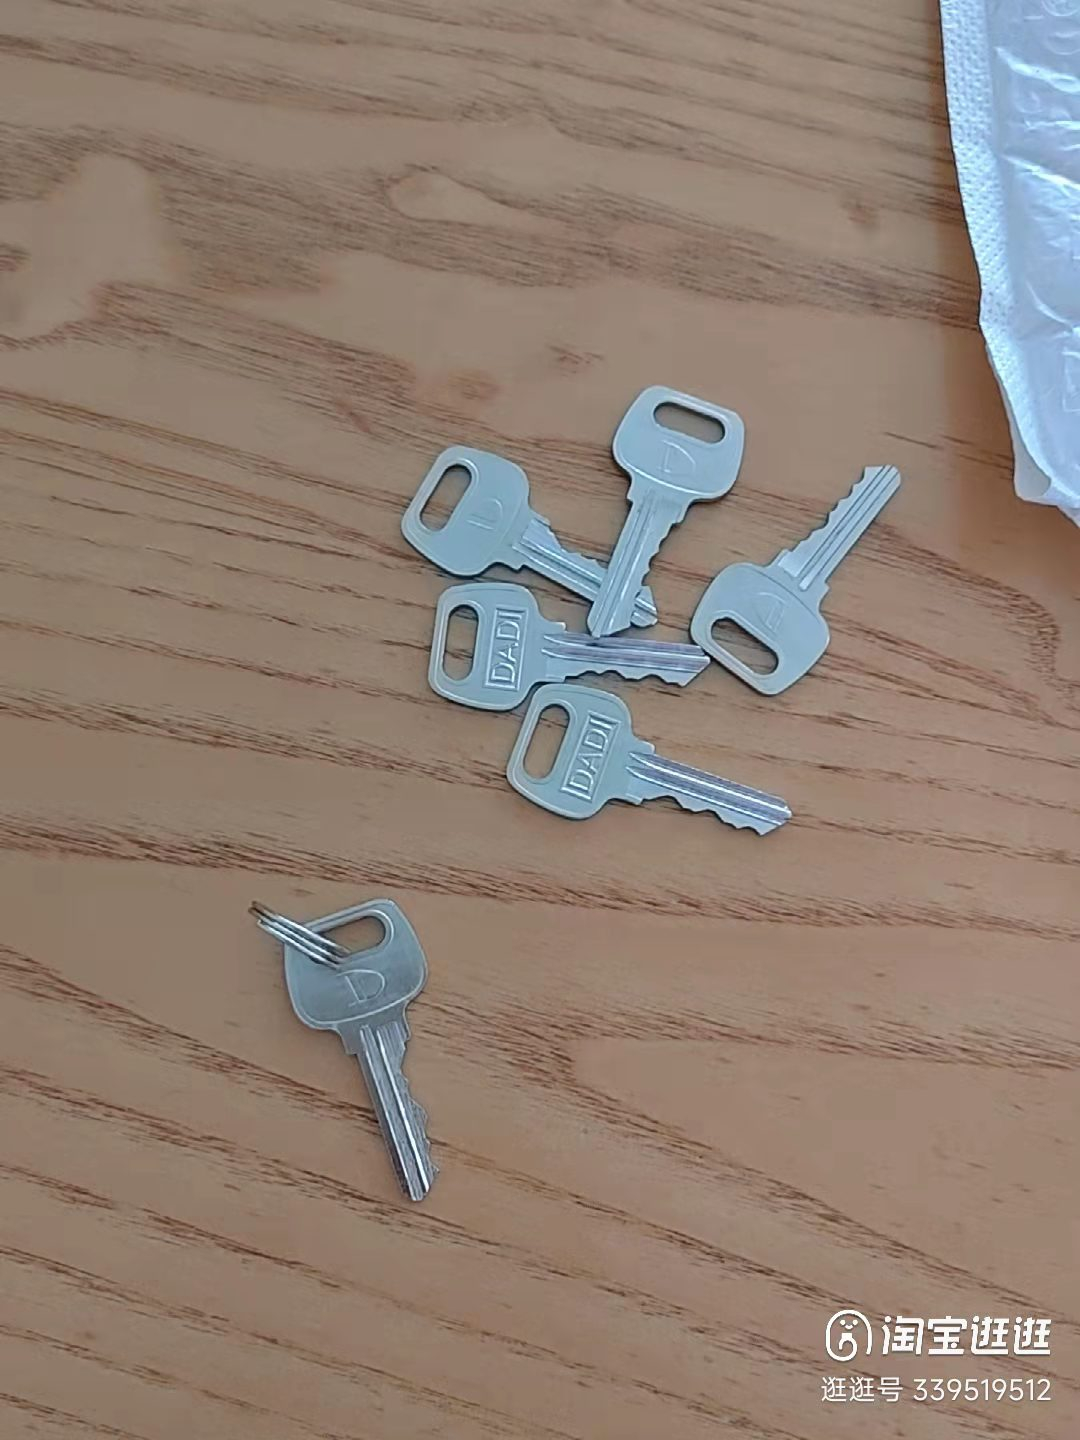key: (252, 892, 467, 1213), (376, 454, 691, 639), (551, 391, 759, 644), (685, 464, 906, 696), (486, 679, 796, 836), (408, 585, 720, 718)
